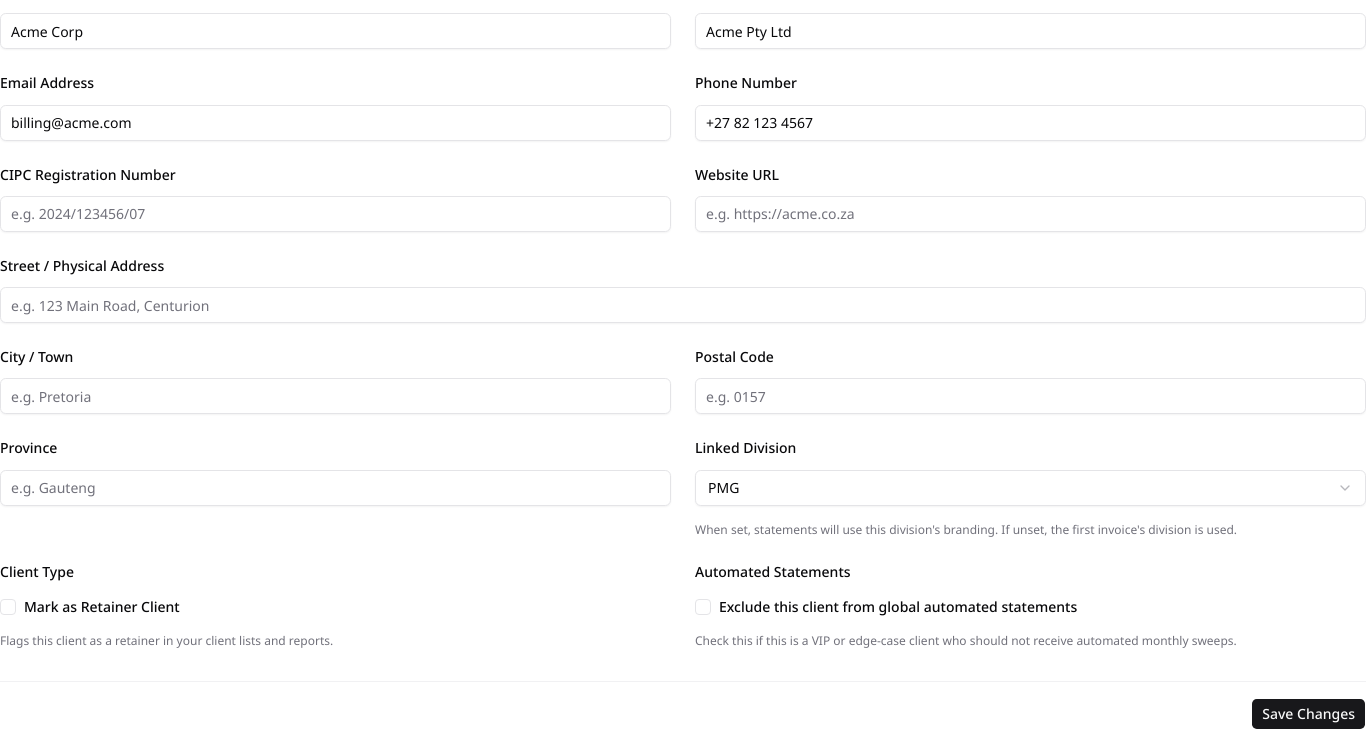
Test: ClientEditForm › shows inline error on failed save
What coordinates should you click on to do the following:
click the button "Save Changes"
I would click on:
 (1309, 714)
Its box is [1251,698,1365,730].
(page scrolled)
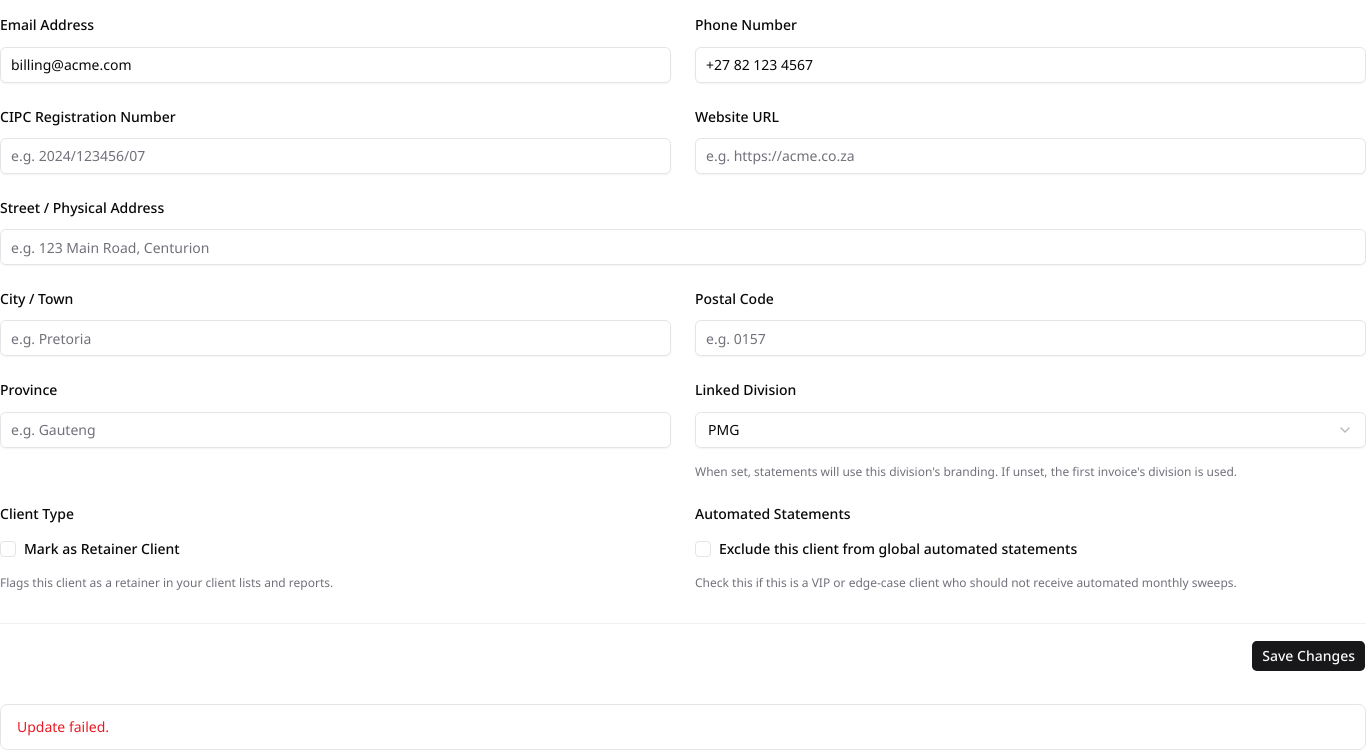
Check: the text "Update failed." is shown, box [17,717,109,736]
